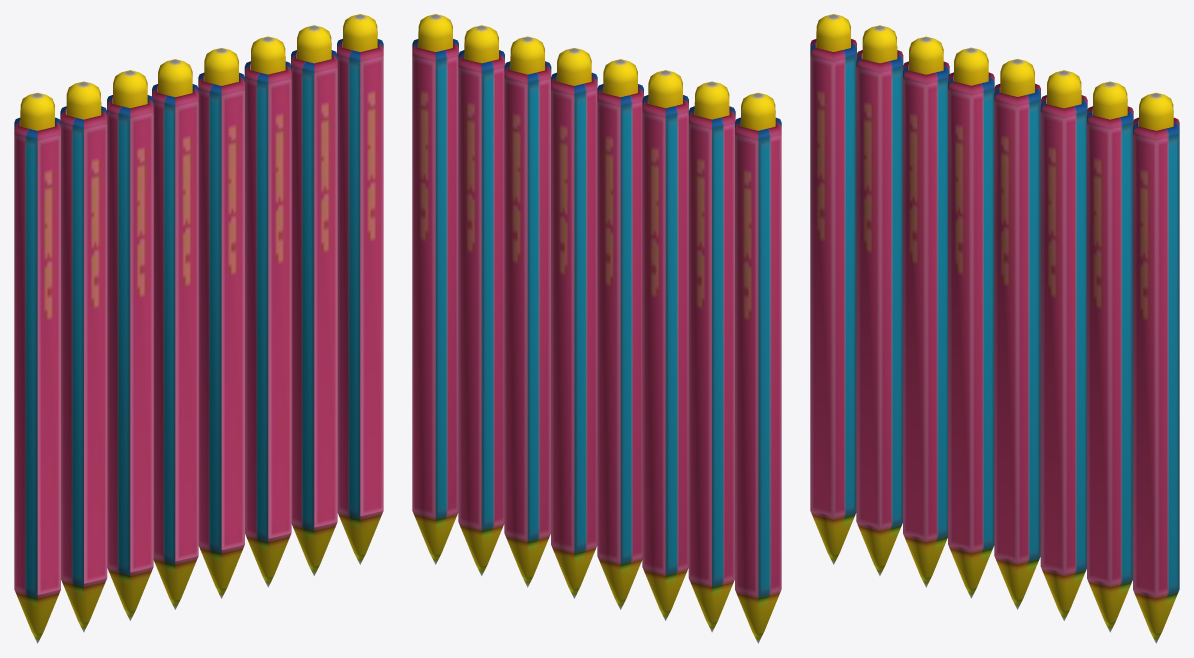
The model's file is int_stt_screen.dae.
3 views of the same model, side by side, from view 1: azimuth 30°, elevation 25°; view 2: azimuth 150°, elevation 25°; view 3: azimuth 330°, elevation 25° (orthographic).
Visible parts, largest first — view 1: int_stt_screen; view 2: int_stt_screen; view 3: int_stt_screen.
Part boxes in pixels (x1,y1,x2,y2): int_stt_screen: (14,14,383,643); int_stt_screen: (412,14,781,643); int_stt_screen: (810,14,1179,643).
Size of the model in its own units: 40.57 by 57.68 by 4.45.
1 material, 1 textured.
